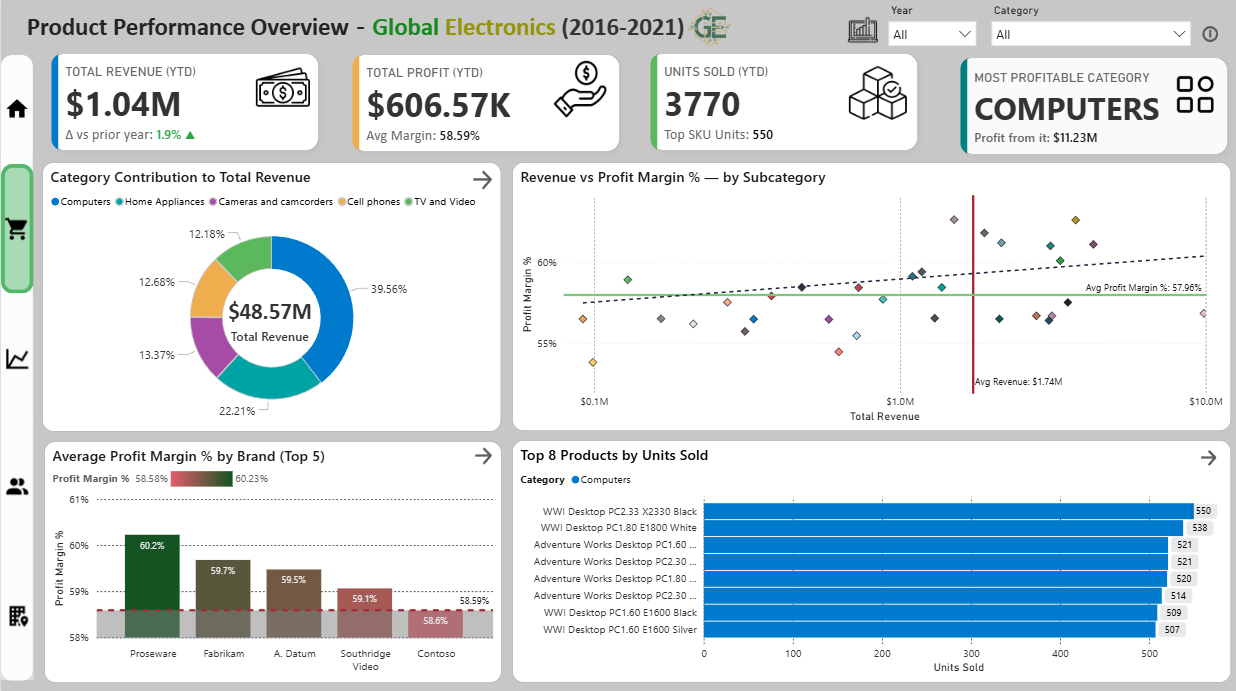

What the dashboard file says about the page in this screenshot:
{"tool":"powerbi","page":{"name":"Products","canvas":[1600,900],"ordinal":1},"visuals":[{"type":"textbox","box":[28.3,8.3,870,60],"z":0},{"type":"cardVisual","fields":{"Data":["sales_final.Total Revenue YTD"]},"box":[52.5,57.5,370,150],"z":0,"group":"g1"},{"type":"cardVisual","fields":{"Data":["sales_final.Units Sold YTD"]},"box":[827.5,57.5,370,150],"z":0,"group":"g3"},{"type":"cardVisual","fields":{"Data":["sales_final.Total Profit YTD"]},"box":[442,58,370,150],"z":0,"group":"g2"},{"type":"cardVisual","fields":{"Data":["sales_final.Top Category Name"]},"box":[1228,62,370,150],"z":0,"group":"g4"},{"type":"shape","box":[0,70.7,41.4,809.2],"z":0,"group":"g8"},{"type":"donutChart","title":"Category Contribution to Total Revenue","fields":{"Y":["sales_final.Total Revenue"],"Category":["products.Category"]},"box":[53.2,209.1,594,349.4],"z":0,"group":"g5"},{"type":"clusteredBarChart","title":"Top 8 Products by Units Sold","fields":{"Category":["products.Product_Name"],"Y":["sales_final.Units Sold"],"Series":["products.Category"]},"box":[661.2,568.8,930,313.6],"z":0,"group":"g7"},{"type":"columnChart","title":"Average Profit Margin % by Brand (Top 5)","fields":{"Category":["products.Brand"],"Y":["sales_final.Profit Margin %"]},"box":[55,570.3,591.8,313.4],"z":0,"group":"g6"},{"type":"group","id":"g1","title":"Card_1","box":[52.5,57.5,370,150],"z":1000},{"type":"image","box":[709.5,73,77.5,82.5],"z":1000,"group":"g2"},{"type":"image","box":[323.7,73.7,80,77.5],"z":1000,"group":"g1"},{"type":"image","box":[1091.3,81.3,85,80],"z":1000,"group":"g3"},{"type":"image","box":[1510,92.5,67.5,57.5],"z":1000,"group":"g4"},{"type":"actionButton","box":[0,212,42,167.5],"z":1000,"group":"g8"},{"type":"card","fields":{"Values":["sales_final.Total Revenue"]},"box":[265.9,371.9,165,79],"z":1000,"group":"g5"},{"type":"actionButton","box":[607.1,570,31,38.1],"z":1000,"group":"g6"},{"type":"actionButton","box":[1546.9,576.5,29,30],"z":1000,"group":"g7"},{"type":"group","id":"g2","title":"Card_2","box":[442,58,370,150],"z":2000},{"type":"actionButton","box":[604.9,215.9,37.5,33.8],"z":2000,"group":"g5"},{"type":"actionButton","box":[0,379.5,42,167.5],"z":2000,"group":"g8"},{"type":"group","id":"g3","title":"Card_3","box":[827.5,57.5,370,150],"z":3000},{"type":"actionButton","box":[0,712.5,42,167.5],"z":3000,"group":"g8"},{"type":"group","id":"g4","title":"Card_4","box":[1228,62,370,150],"z":3500},{"type":"scatterChart","title":"Revenue vs Profit Margin % — by Subcategory","fields":{"X":["sales_final.Total Revenue"],"Y":["sales_final.Profit Margin %"],"Category":["products.Subcategory"]},"box":[661.2,210,930,347.5],"z":4000},{"type":"actionButton","box":[0,545,42,167.5],"z":4000,"group":"g8"},{"type":"actionButton","box":[0,71.3,41.4,140.2],"z":4500,"group":"g8"},{"type":"actionButton","title":"Info_button","box":[1549.1,28.2,29.1,30.9],"z":5000},{"type":"image","title":"Logo","box":[872.7,4.5,86.4,60],"z":6000},{"type":"group","id":"g5","title":"Pie_top","box":[53.2,209.1,593.5,348.1],"z":7000},{"type":"group","id":"g6","title":"Column_top5","box":[55,570,591.7,313.3],"z":9000},{"type":"group","id":"g7","title":"Bar_top8","box":[661.2,568.8,930,312.5],"z":11000},{"type":"image","title":"More_visuals","box":[1090,14.3,48.6,48.6],"z":13000},{"type":"slicer","fields":{"Values":["Calendar.Year"]},"box":[1138.6,0,132.9,68.6],"z":14000},{"type":"slicer","fields":{"Values":["products.Category"]},"box":[1271.4,0,277.1,68.6],"z":15000},{"type":"group","id":"g8","title":"Page_nav","box":[0,70.7,42,809.3],"z":16000}]}

Visuals, with their boxes in screenshot pixels (x1, y1, x2, y2), scaled from the page's 1600x900 canvas onto the 1236x691 screenshot:
textbox: bbox(22, 6, 694, 52)
cardVisual - sales_final.Total Revenue YTD: bbox(41, 44, 326, 159)
cardVisual - sales_final.Units Sold YTD: bbox(639, 44, 925, 159)
cardVisual - sales_final.Total Profit YTD: bbox(341, 45, 627, 160)
cardVisual - sales_final.Top Category Name: bbox(949, 48, 1234, 163)
shape: bbox(0, 54, 32, 676)
"Category Contribution to Total Revenue" donutChart: bbox(41, 161, 500, 429)
"Top 8 Products by Units Sold" clusteredBarChart: bbox(511, 437, 1229, 677)
"Average Profit Margin % by Brand (Top 5)" columnChart: bbox(42, 438, 500, 678)
"Card_1" group: bbox(41, 44, 326, 159)
image: bbox(548, 56, 608, 119)
image: bbox(250, 57, 312, 116)
image: bbox(843, 62, 909, 124)
image: bbox(1166, 71, 1219, 115)
actionButton: bbox(0, 163, 32, 291)
card - sales_final.Total Revenue: bbox(205, 286, 333, 346)
actionButton: bbox(469, 438, 493, 467)
actionButton: bbox(1195, 443, 1217, 466)
"Card_2" group: bbox(341, 45, 627, 160)
actionButton: bbox(467, 166, 496, 192)
actionButton: bbox(0, 291, 32, 420)
"Card_3" group: bbox(639, 44, 925, 159)
actionButton: bbox(0, 547, 32, 676)
"Card_4" group: bbox(949, 48, 1234, 163)
"Revenue vs Profit Margin % — by Subcategory" scatterChart: bbox(511, 161, 1229, 428)
actionButton: bbox(0, 418, 32, 547)
actionButton: bbox(0, 55, 32, 162)
"Info_button" actionButton: bbox(1197, 22, 1219, 45)
"Logo" image: bbox(674, 3, 741, 50)
"Pie_top" group: bbox(41, 161, 500, 428)
"Column_top5" group: bbox(42, 438, 500, 678)
"Bar_top8" group: bbox(511, 437, 1229, 677)
"More_visuals" image: bbox(842, 11, 880, 48)
slicer - Calendar.Year: bbox(880, 0, 982, 53)
slicer - products.Category: bbox(982, 0, 1196, 53)
"Page_nav" group: bbox(0, 54, 32, 676)
